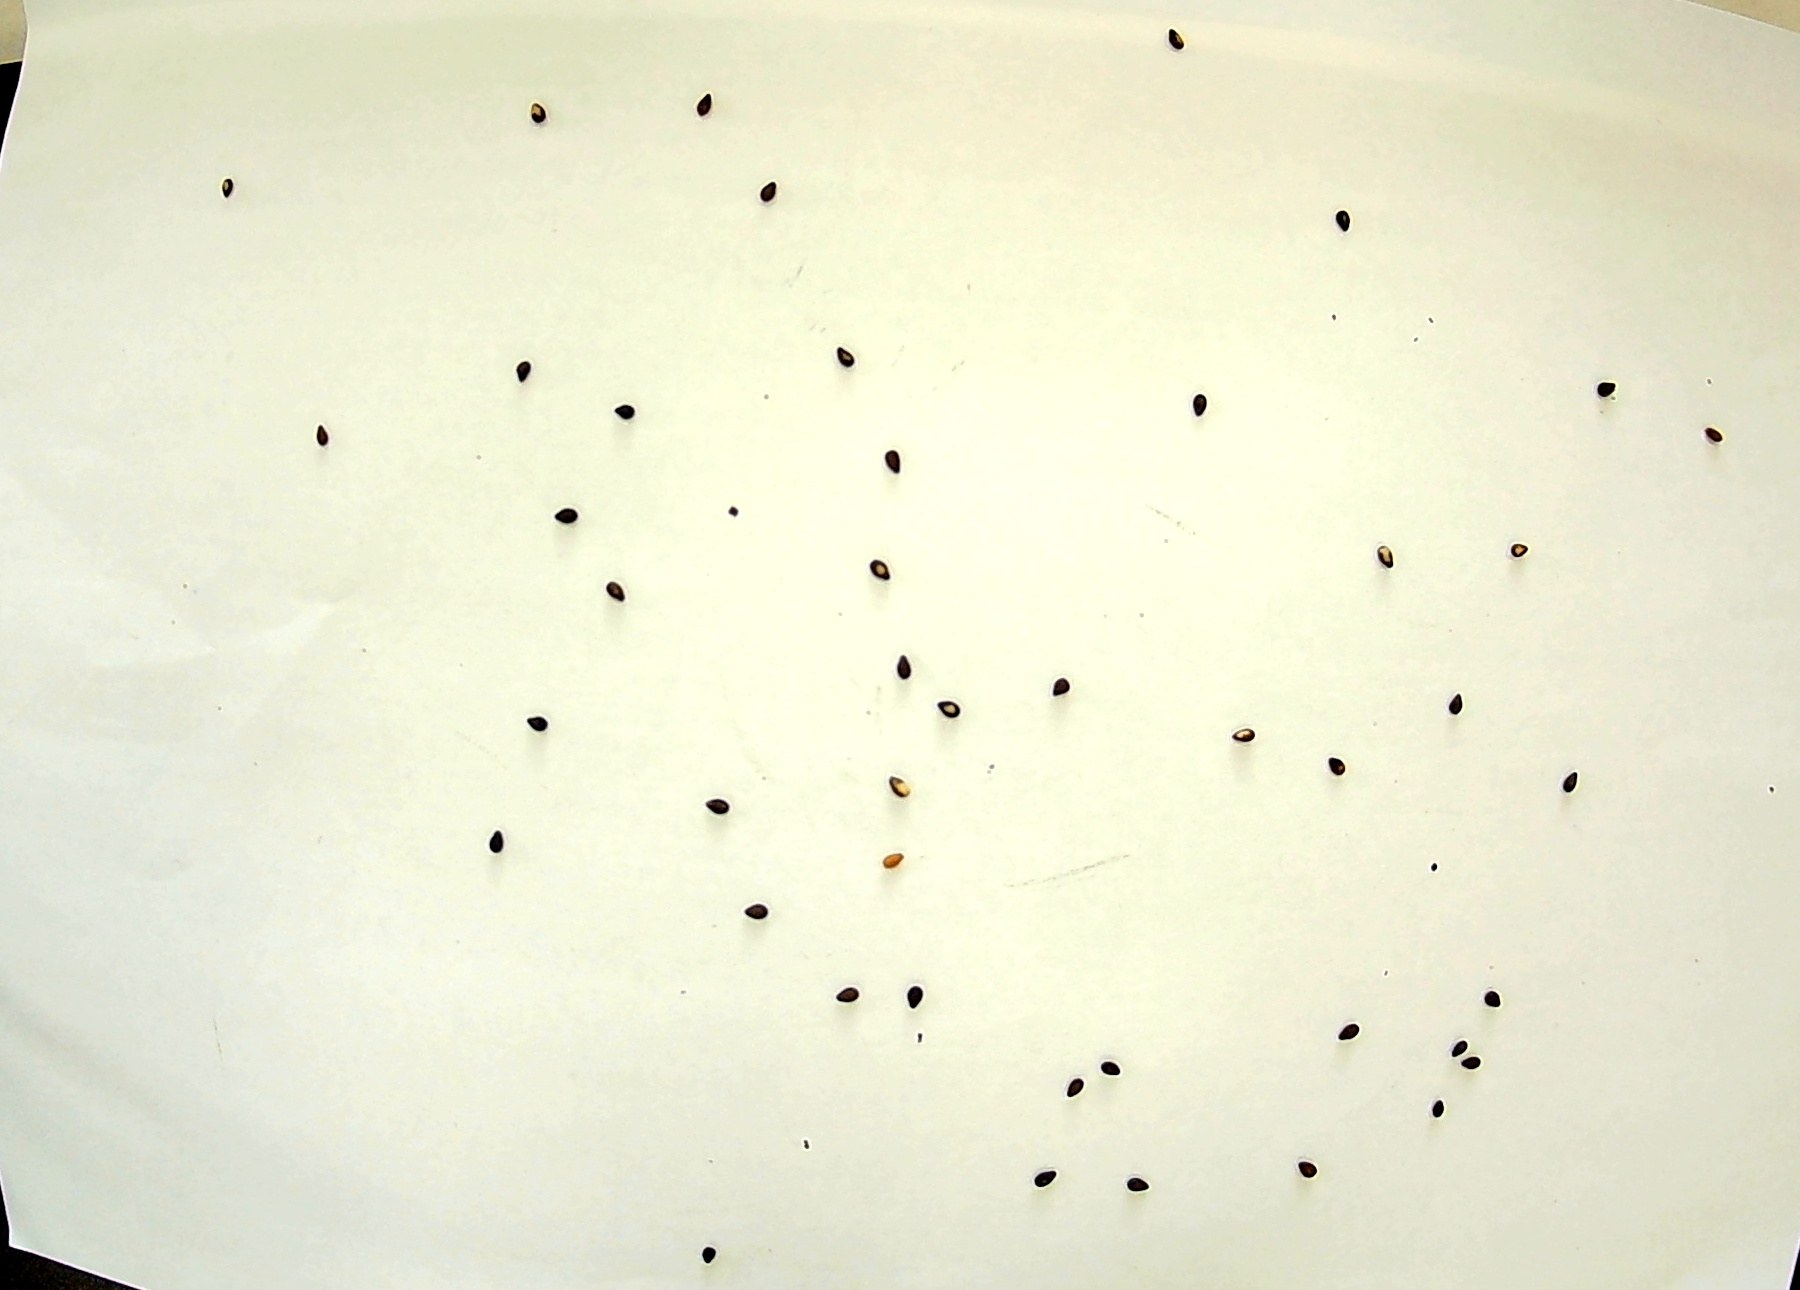sesami: (218, 172, 246, 208), (527, 92, 555, 128), (1591, 373, 1619, 409), (1510, 537, 1538, 574), (1192, 391, 1220, 427), (839, 335, 867, 371), (899, 973, 927, 1009), (1053, 672, 1081, 708), (1443, 1019, 1471, 1055), (1330, 1014, 1358, 1050), (1095, 1053, 1123, 1089), (1065, 1064, 1093, 1100), (1127, 1164, 1155, 1201), (1326, 207, 1353, 242), (1450, 679, 1478, 713), (511, 356, 537, 392), (692, 88, 719, 124), (1167, 18, 1193, 54), (1705, 412, 1732, 448), (755, 170, 781, 207), (613, 392, 639, 429), (555, 501, 582, 537), (522, 708, 548, 744), (487, 822, 513, 859), (741, 889, 767, 926), (832, 970, 858, 1007), (878, 839, 904, 875), (896, 651, 922, 687), (872, 544, 899, 581), (1231, 715, 1257, 751), (1324, 750, 1351, 786), (1561, 761, 1588, 797), (1478, 984, 1504, 1021), (1462, 1043, 1489, 1079), (1423, 1093, 1450, 1129), (1296, 1153, 1323, 1189), (1034, 1156, 1060, 1192), (313, 424, 339, 459), (1380, 537, 1407, 572), (611, 577, 638, 611), (705, 792, 731, 826), (885, 771, 911, 806), (938, 685, 964, 720), (885, 443, 911, 477), (700, 1236, 727, 1270)
